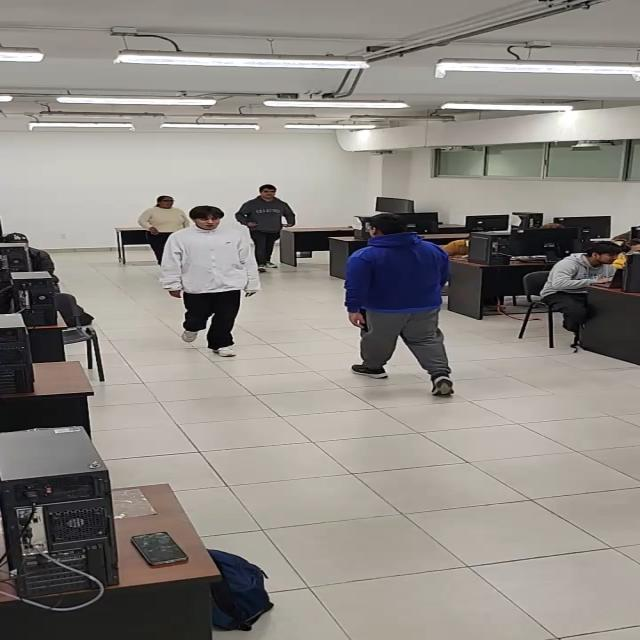Persona: (353, 211, 462, 399), (164, 206, 248, 358), (246, 184, 297, 272), (142, 194, 184, 246)
